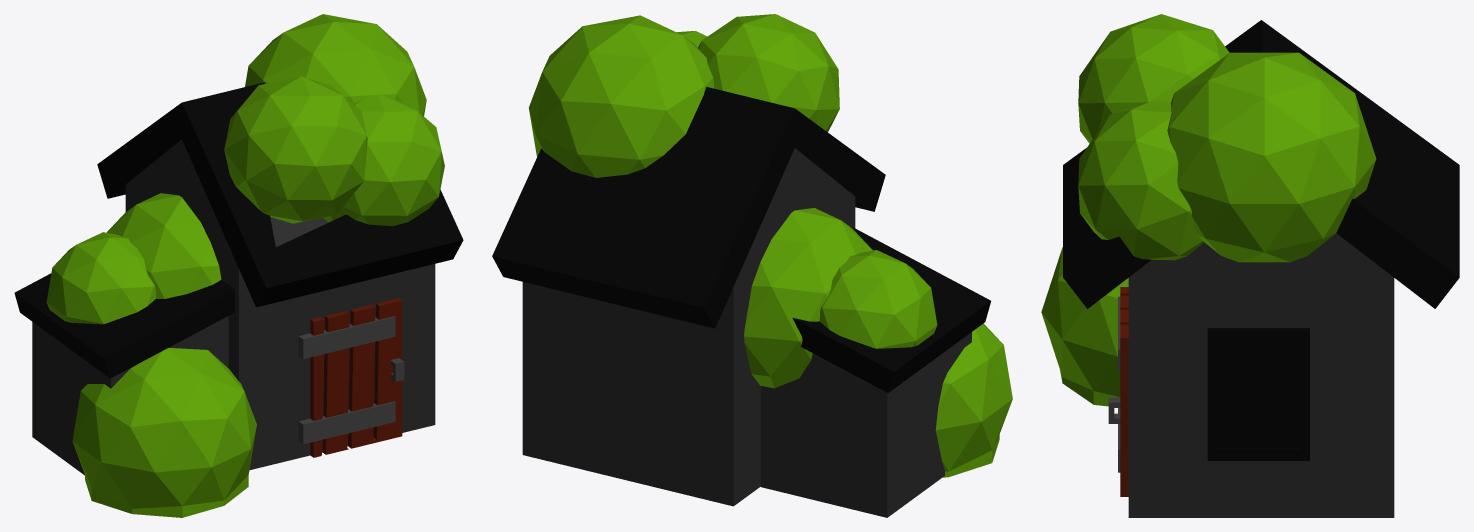
Rendered from Shack.fbx.
3 renders of one model, left to right at view 1: azimuth 30°, elevation 25°; view 2: azimuth 150°, elevation 25°; view 3: azimuth 270°, elevation 25°, orthographic. The views are drawn at different scales.
Parts seen in each view (by area): view 1: Icosphere.003, Cube.002, Cube, Cube.005, Cube.006; view 2: Cube, Icosphere.003, Cube.002; view 3: Icosphere.003, Cube, Cube.002, Cube.004, Cube.005, Cube.006.
Part boxes in pixels (x1,y1,x2,y2): Icosphere.003: [46, 14, 444, 517]; Cube.002: [14, 82, 463, 378]; Cube: [32, 139, 435, 475]; Cube.005: [310, 298, 402, 457]; Cube.006: [298, 316, 404, 444]; Cube: [522, 148, 971, 517]; Icosphere.003: [529, 14, 1012, 477]; Cube.002: [492, 86, 990, 392]; Icosphere.003: [1041, 14, 1376, 406]; Cube: [1128, 233, 1394, 517]; Cube.002: [1063, 20, 1459, 308]; Cube.004: [1207, 328, 1309, 460]; Cube.005: [1120, 287, 1128, 496]; Cube.006: [1108, 296, 1120, 472].
Bounding box in the file's own units: 389 × 372 × 323.
